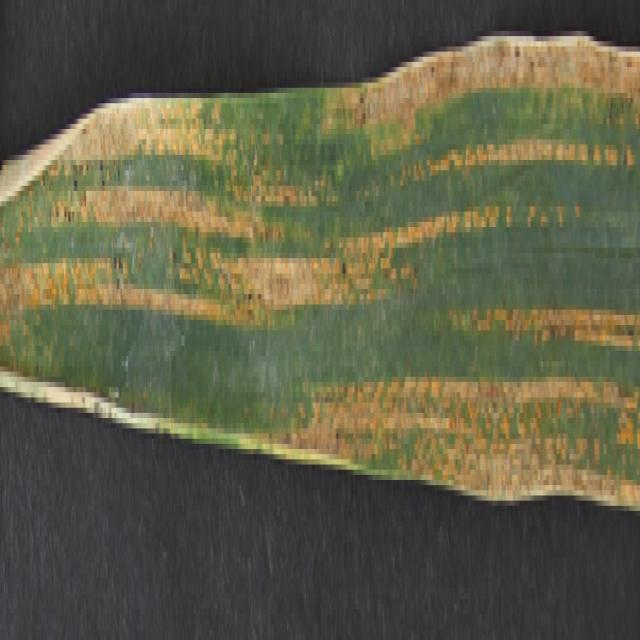leaf rust: (1, 41, 640, 511)
